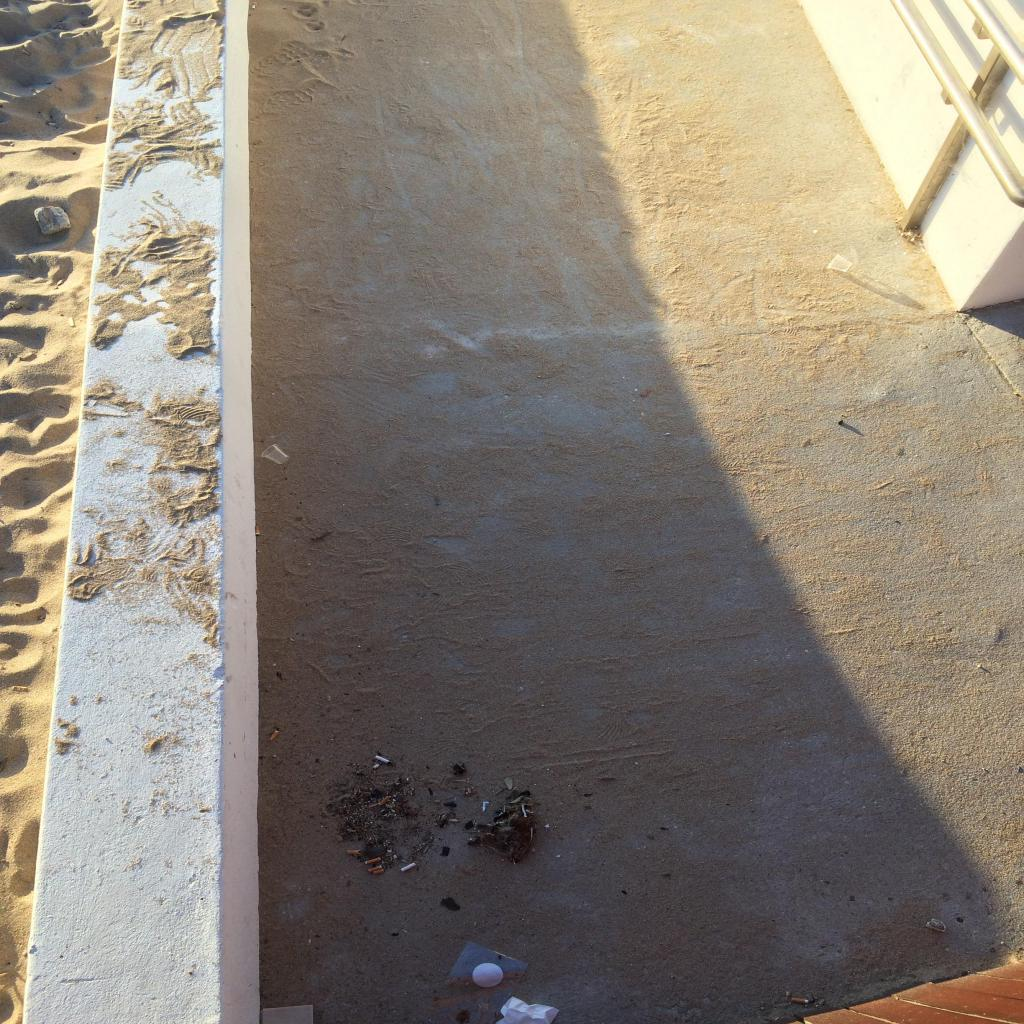Cigarette: (376, 756, 394, 764), (402, 862, 416, 872), (368, 865, 383, 873), (379, 796, 391, 806), (270, 730, 280, 742), (791, 998, 809, 1004), (366, 858, 380, 864), (347, 850, 361, 854), (372, 764, 380, 770), (374, 870, 385, 874), (256, 526, 260, 536)
Disposable plastic cup: (262, 444, 290, 464), (826, 254, 852, 272)
Normal paper: (495, 996, 560, 1023)
Plastic film: (423, 942, 528, 1024)
